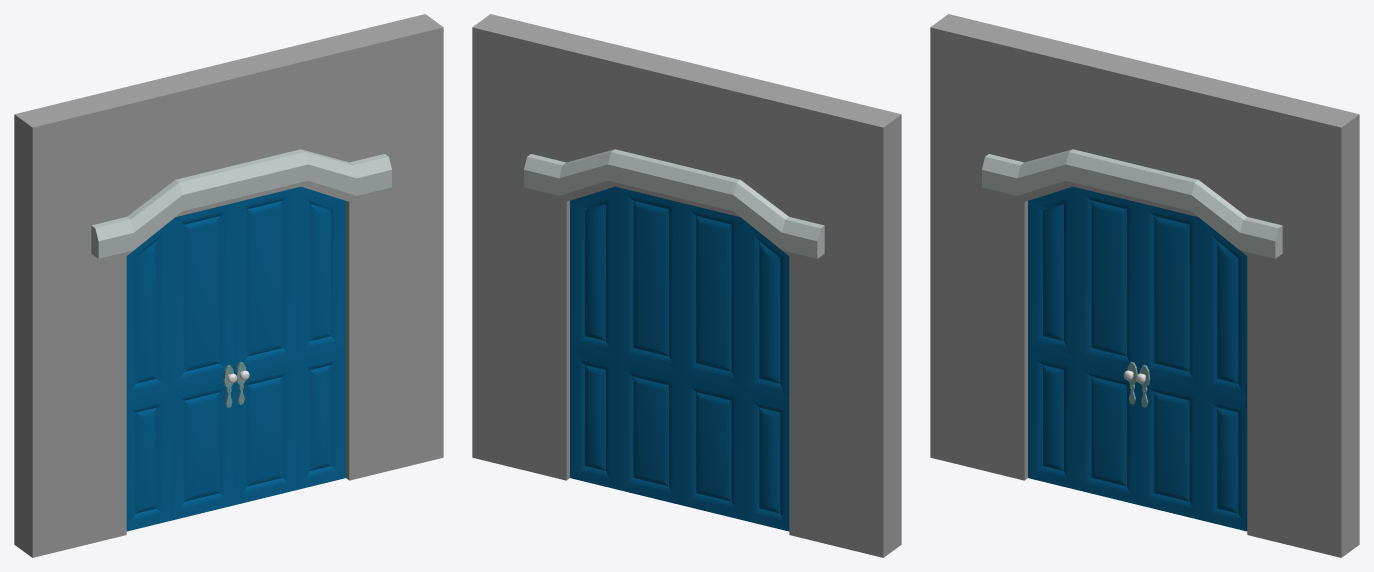
The model's file is NY_STreet_Door_A.fbx.
3 views of the same model, side by side, from view 1: azimuth 30°, elevation 25°; view 2: azimuth 150°, elevation 25°; view 3: azimuth 330°, elevation 25° (orthographic).
Parts seen in each view (by area): view 1: NY_STreet_Door_A; view 2: NY_STreet_Door_A; view 3: NY_STreet_Door_A.
Part boxes in pixels (x1,y1,x2,y2): NY_STreet_Door_A: (14, 14, 443, 557); NY_STreet_Door_A: (472, 14, 901, 557); NY_STreet_Door_A: (930, 14, 1359, 557).
Bounding box in the file's own units: 400 × 400 × 55.15.
